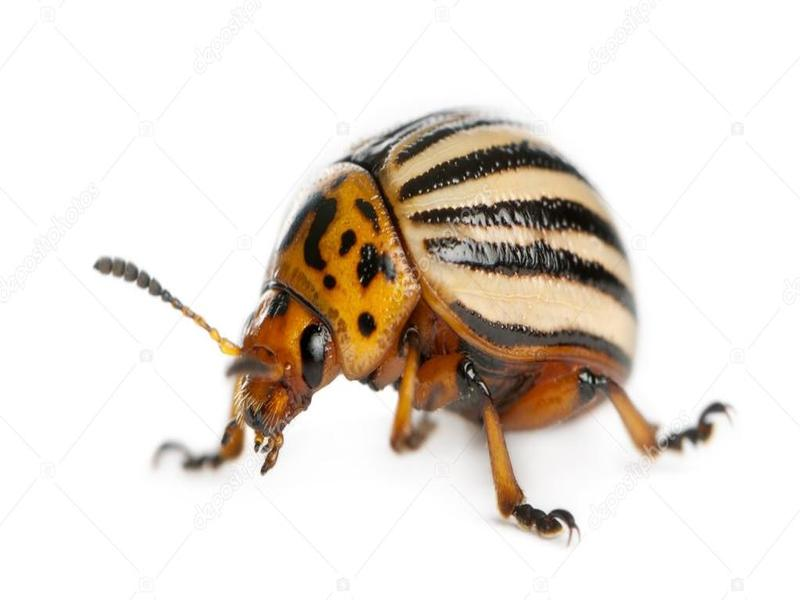hrosc: (189, 100, 675, 522)
